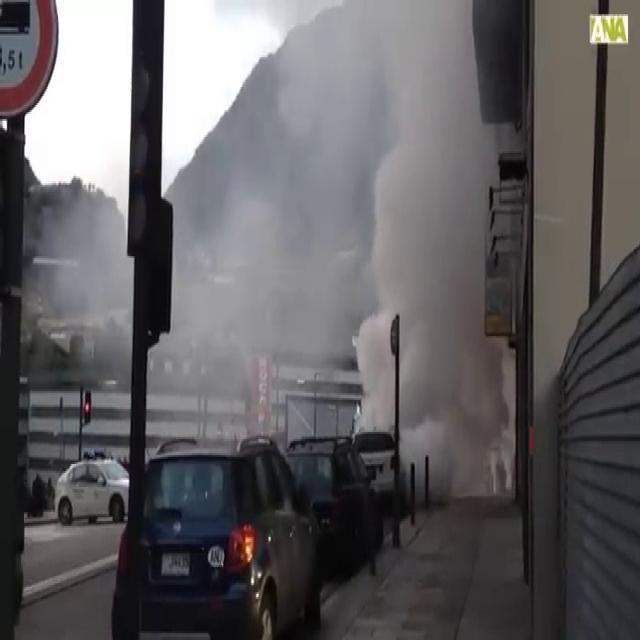Fire: (228, 516, 260, 576)
Smoke: (342, 0, 506, 496), (176, 112, 319, 414), (32, 174, 137, 345)
